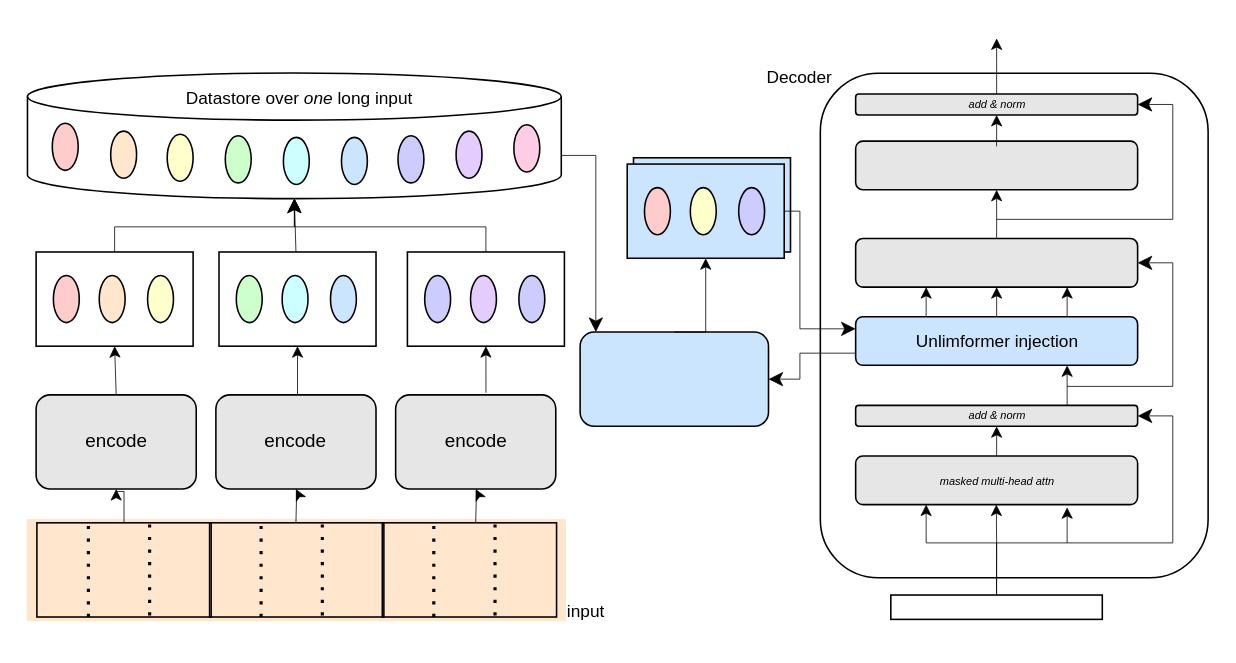
Some shapes in this 1236 by 663 pixel diagram are drawn without their labels. Each missing label, with the box of its shape:
feedforward: (854, 140, 1138, 190)
kNN search: (579, 330, 769, 426)
multi-head (cross) attn: (854, 237, 1138, 287)
previous output: (889, 593, 1102, 619)
